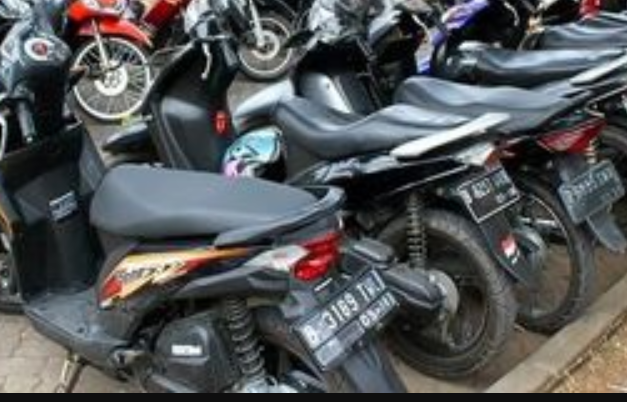plate: (290, 270, 397, 368), (555, 161, 624, 225), (455, 170, 523, 222)
